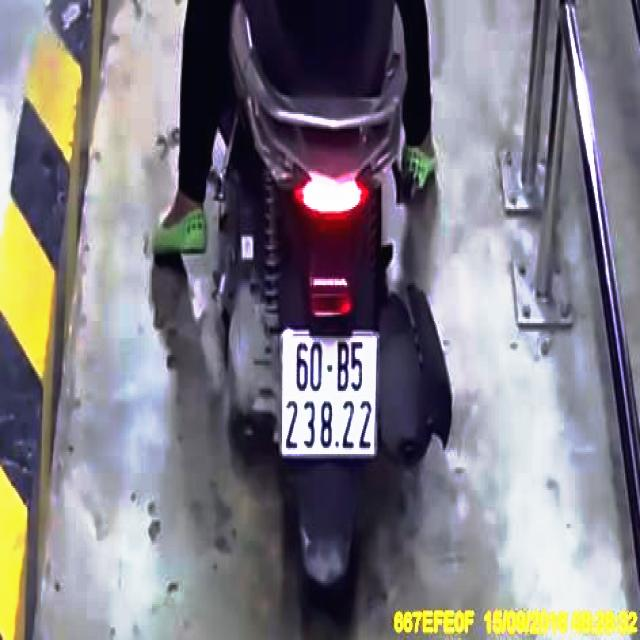license_plate: (281, 333, 379, 459)
